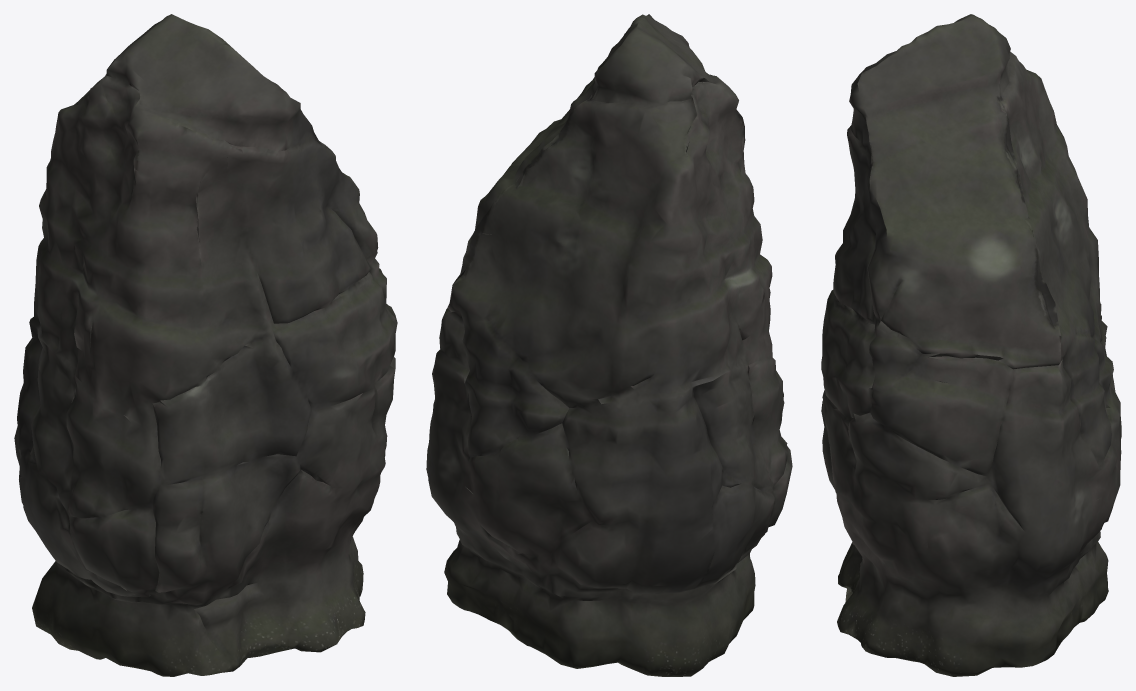
File: sea_stack.glb
The picture shows the model from 3 angles, left to right: view 1: azimuth 30°, elevation 25°; view 2: azimuth 150°, elevation 25°; view 3: azimuth 270°, elevation 25°; orthographic projection. The views are drawn at different scales.
Visible parts, largest first — view 1: sea_stack; view 2: sea_stack; view 3: sea_stack.
Part boxes in pixels (bbox=[...]): sea_stack: bbox=[14, 14, 397, 676]; sea_stack: bbox=[426, 14, 792, 676]; sea_stack: bbox=[821, 14, 1121, 676].
Size of the model in its own units: 6.61 by 12.58 by 5.76.
1 material, 1 textured.
